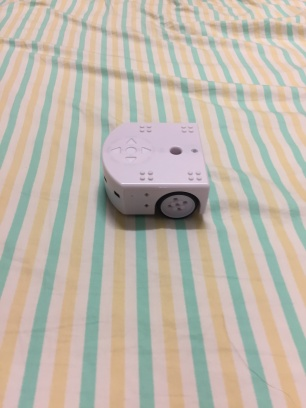thymio: (97, 115, 214, 223)
